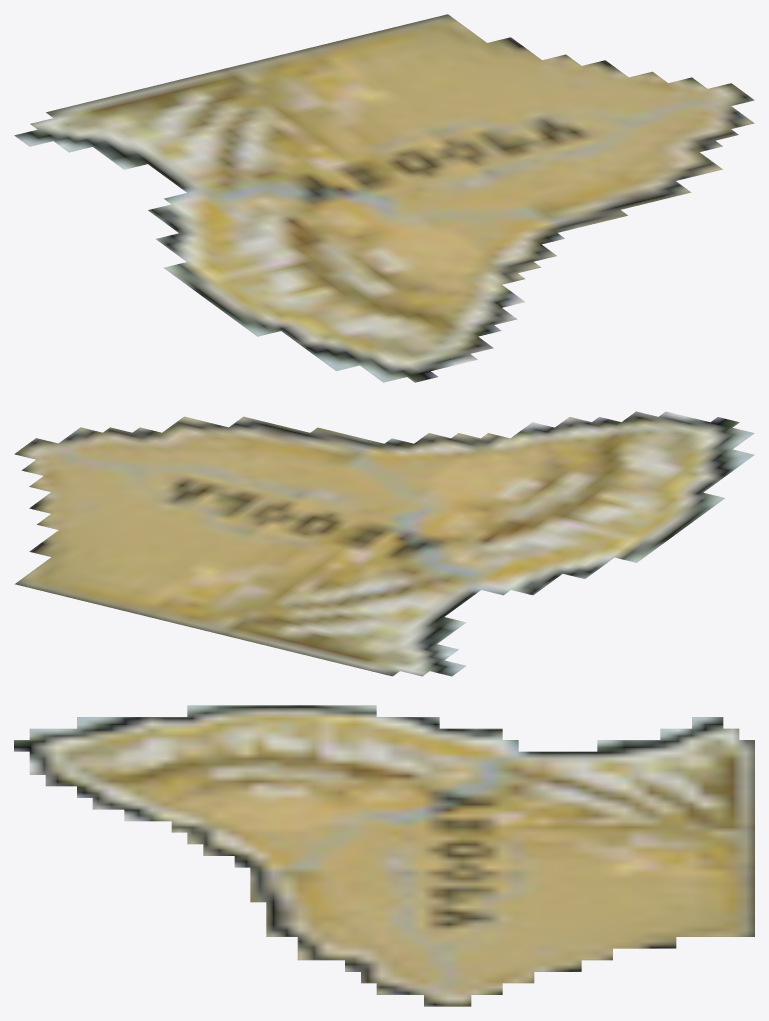
Rendered from angola.gltf.
The picture shows the model from 3 angles, top to bottom: view 1: azimuth 30°, elevation 25°; view 2: azimuth 150°, elevation 25°; view 3: azimuth 270°, elevation 25°; orthographic projection. The views are drawn at different scales.
Visible parts, largest first — view 1: Plane; view 2: Plane; view 3: Plane.
Part boxes in pixels (x1,y1,x2,y2): Plane: (14,14,754,382); Plane: (14,411,754,676); Plane: (14,705,754,1006).
Bounding box in the file's own units: 0.2567 × 0 × 0.2669.
Materials: 1 (1 with a texture image).
